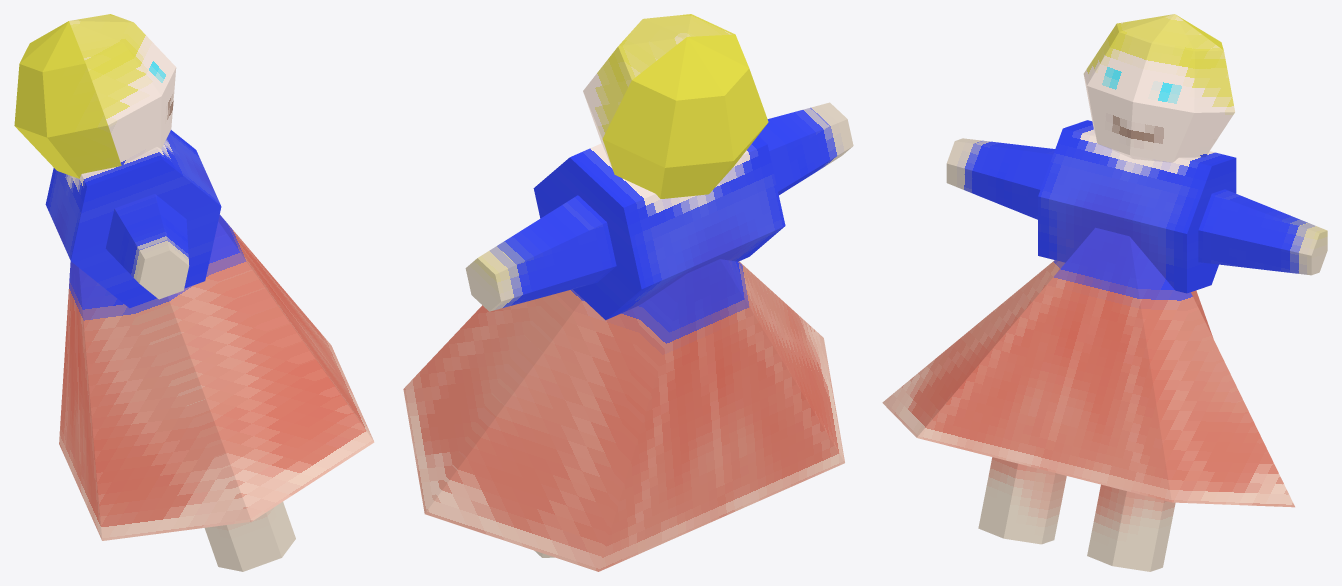
File: doll.glb
The picture shows the model from 3 angles, left to right: view 1: azimuth 30°, elevation 25°; view 2: azimuth 150°, elevation 25°; view 3: azimuth 270°, elevation 25°; orthographic projection. The views are drawn at different scales.
Parts seen in each view (by area): view 1: Doll; view 2: Doll; view 3: Doll.
Boxes of the visible parts, <box> form: Doll: <box>14,14,374,571</box>; Doll: <box>403,14,853,571</box>; Doll: <box>882,14,1327,571</box>.
Bounding box in the file's own units: 0.7816 × 1.22 × 1.
1 material, 1 textured.
